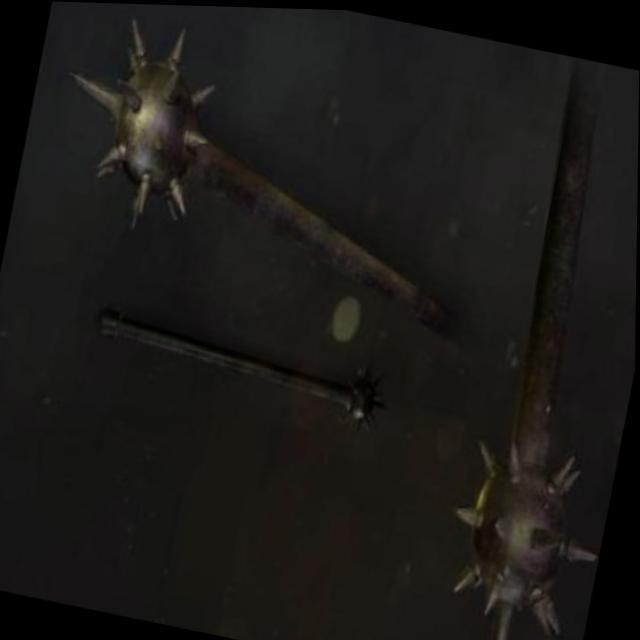weapon: (33, 1, 496, 332), (422, 59, 640, 640)
